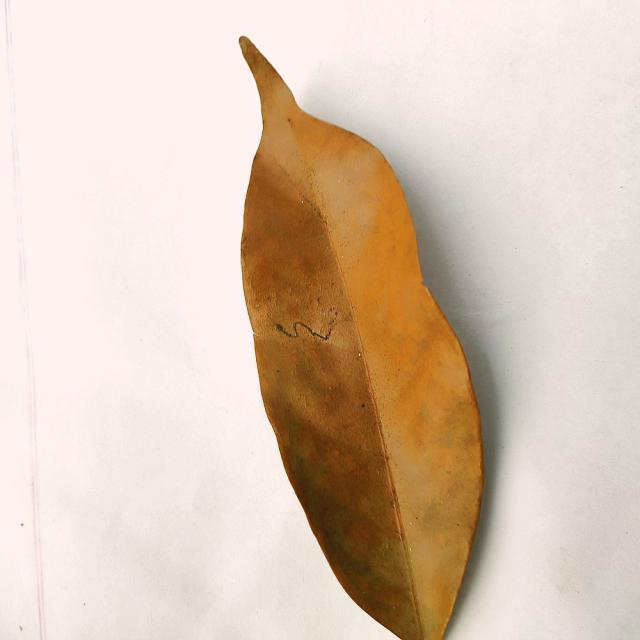Dry_Leaf-Lychee: (237, 36, 486, 639)
